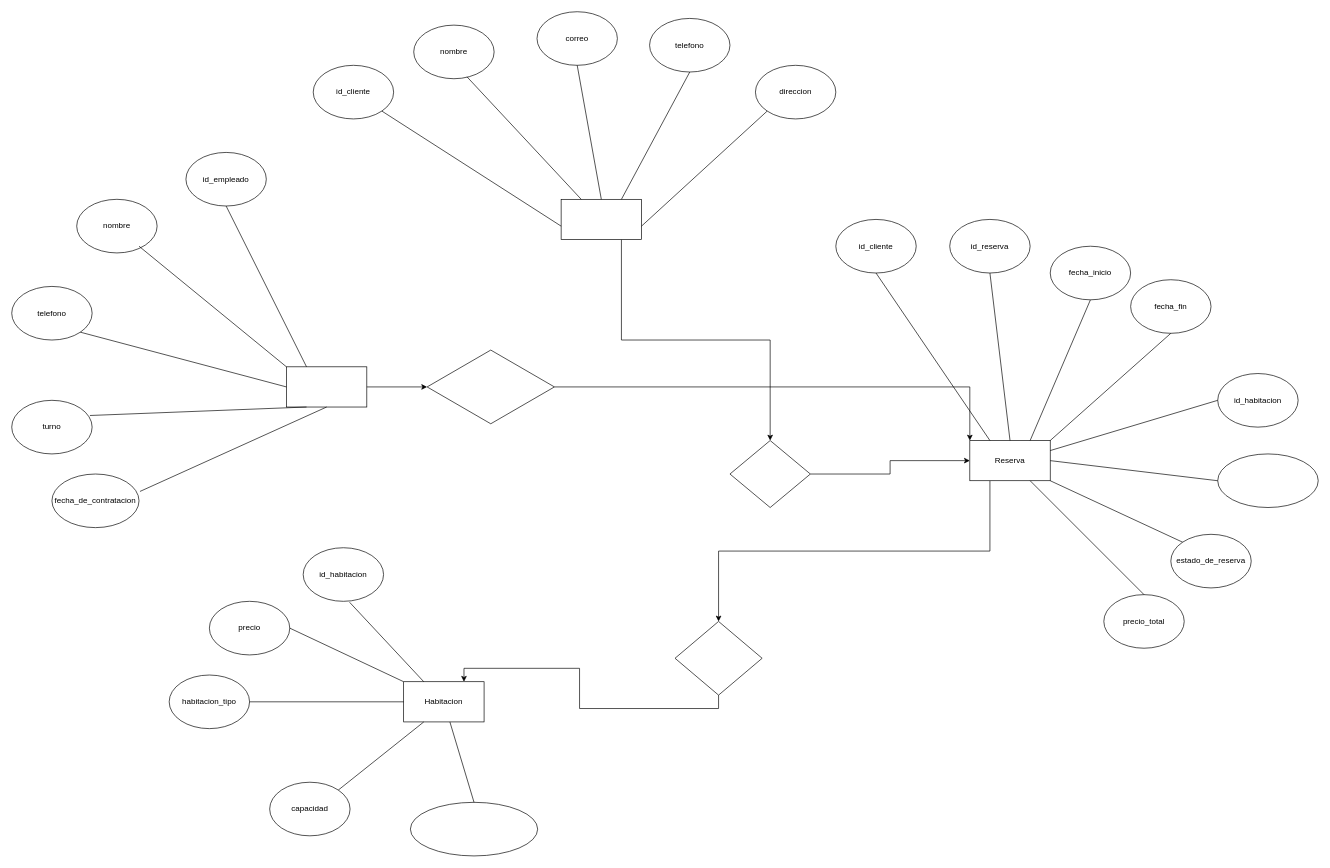
The diagram is 1330 pixels wide and 868 high, and some of its shapes have lost their labels. Each missing label, with the centre of its shape:
"Cliente" goes at pixel 601 219.
"disponibilidad" goes at pixel 474 829.
"Empleado" goes at pixel 326 386.
"fecha_creacion" goes at pixel 1267 480.
"Hace las reservas de las habitaciones" goes at pixel 490 386.
"reserva de habitación." goes at pixel 718 658.
"reserva las habitaciones" goes at pixel 769 474.
